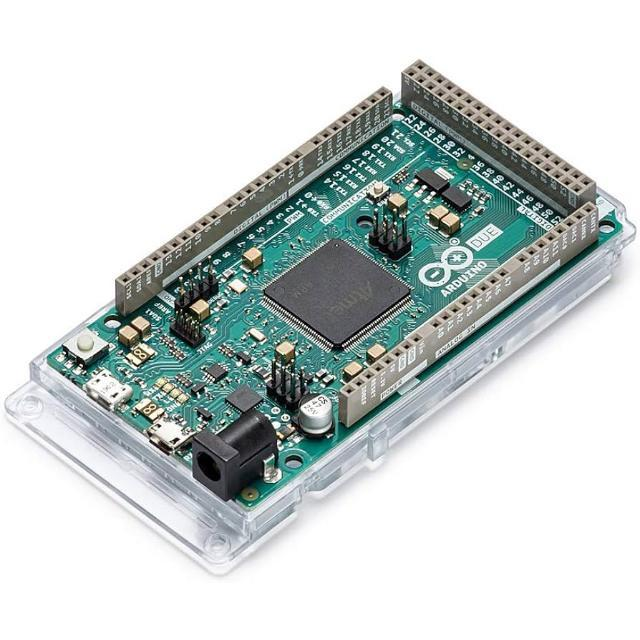Arduino-Due: (6, 62, 637, 574)
